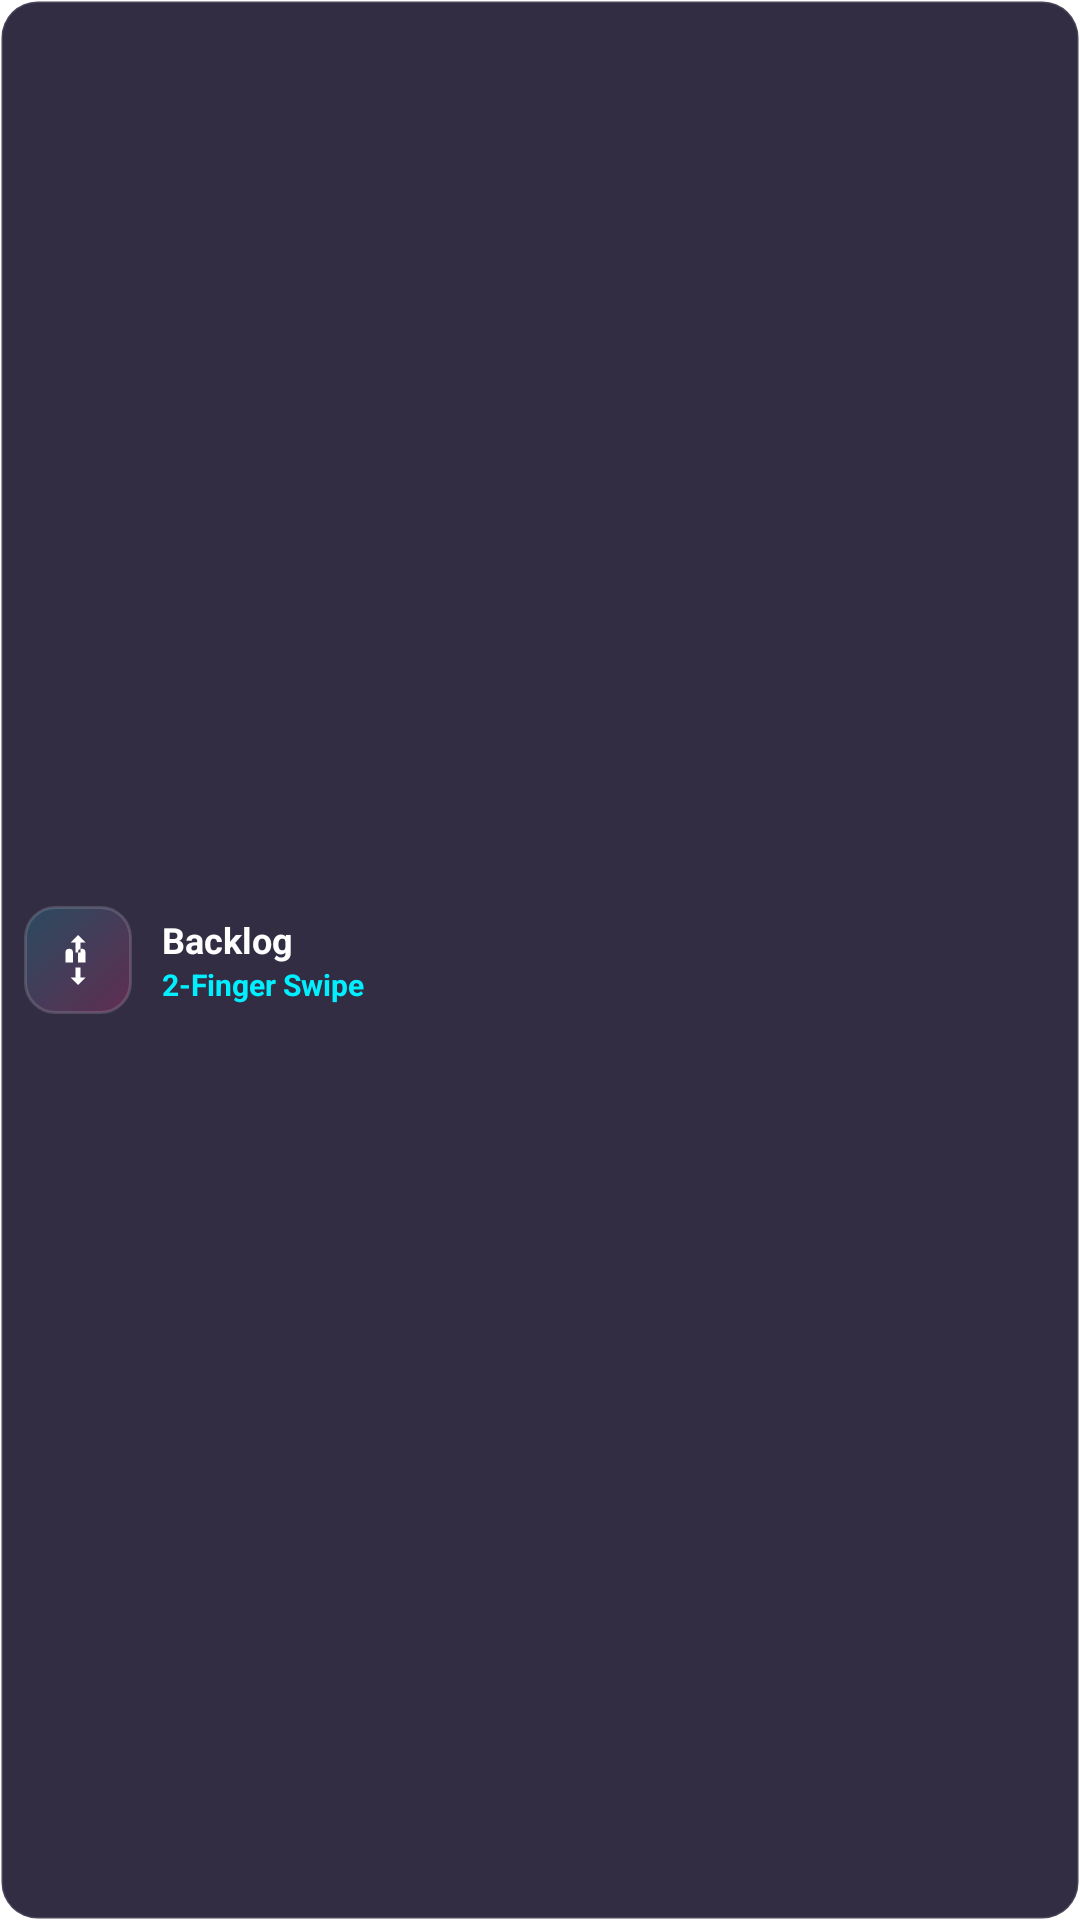

Named icons in this screenshot (1080 x 1920) and their centers, (x,y):
gesture swipe: (75,960)
